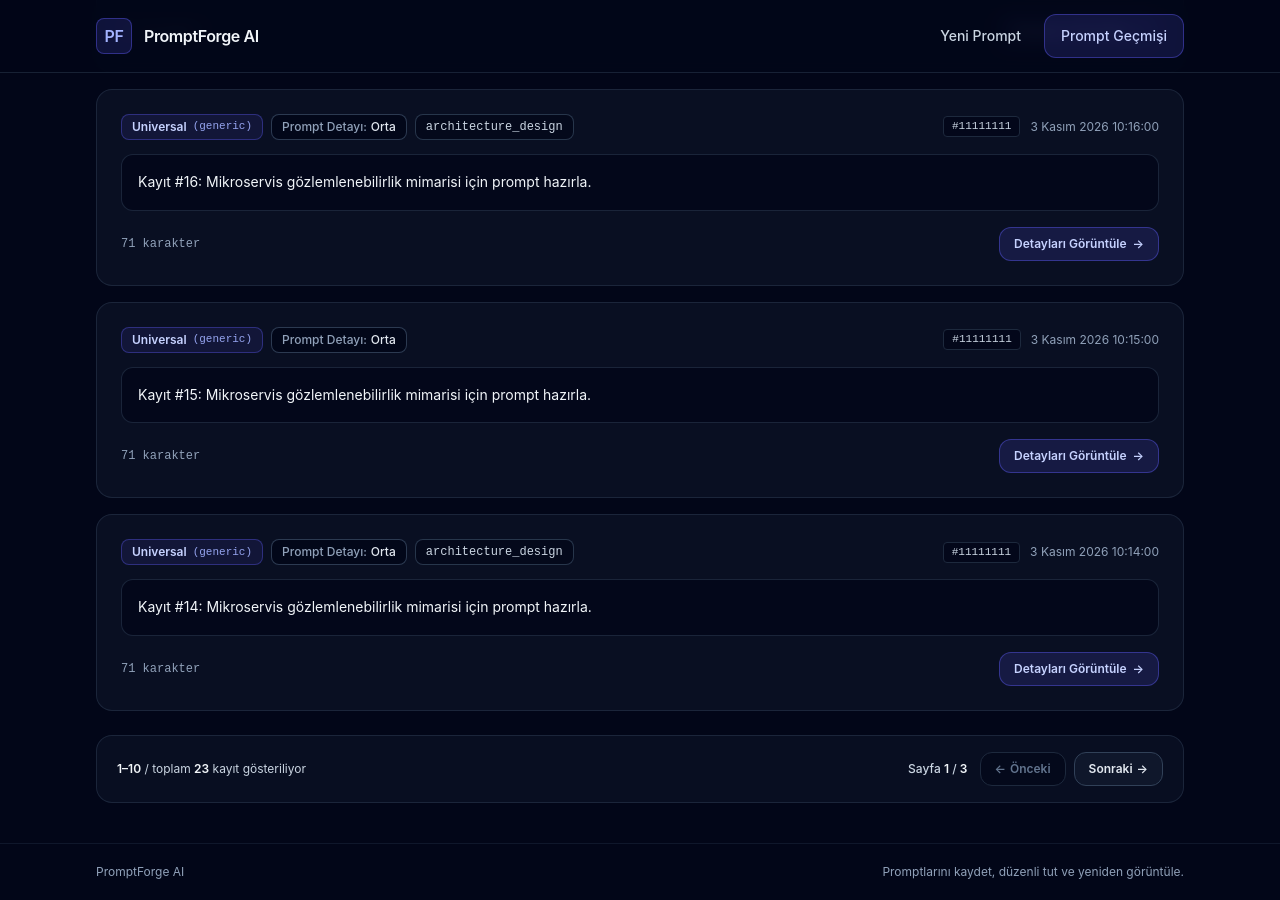
Prompt history, server-side pagination, and navigation (Milestone 4B-1) › paginates multi-page datasets, respects Previous/Next boundaries, handles partial last page, and avoids stale page data
This screenshot has width=1280, height=900.
Later steps or results of the test are not shown.
(page scrolled)
Expected: the text "Kayıt #14:" is shown, top-left (138, 598), bottom-right (592, 615)
Expected: the navigation bar named "Prompt geçmişi sayfalama" shows "1–10 / toplam 23 kayıt gösteriliyor", top-left (96, 735), bottom-right (1184, 803)
Click the button "Sonraki →".
click(1118, 769)  # box top-left (1074, 752), bottom-right (1163, 786)
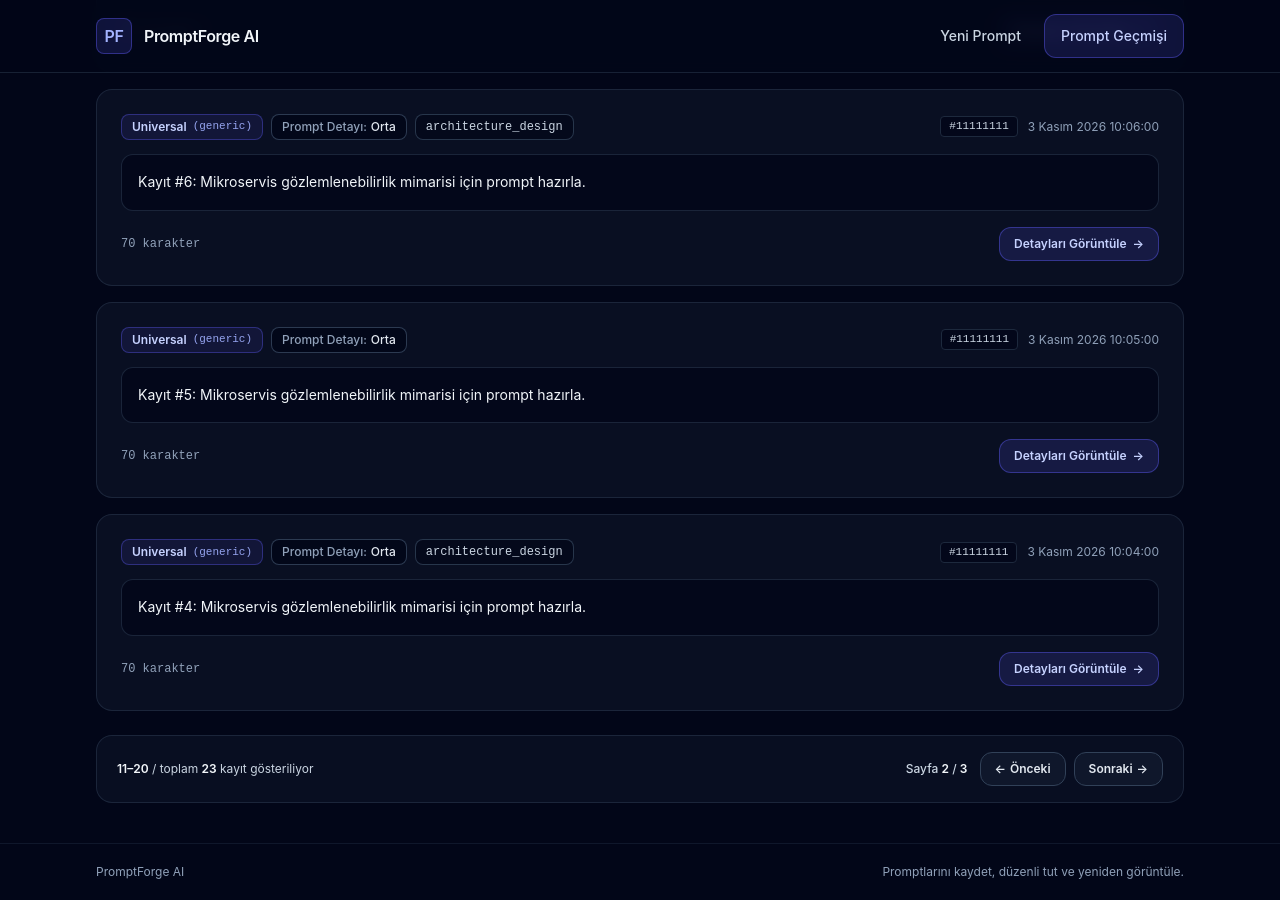
Expected: the text "Kayıt #4:" is shown, top-left (138, 598), bottom-right (586, 615)
Expected: the navigation bar named "Prompt geçmişi sayfalama" shows "11–20 / toplam 23 kayıt gösteriliyor", top-left (96, 735), bottom-right (1184, 803)
Expected: the navigation bar named "Prompt geçmişi sayfalama" shows "Sayfa 2 / 3", top-left (96, 735), bottom-right (1184, 803)
# Advance to final partial page 3 of 3: records #3, #2, #1
Click the button "Sonraki →".
click(1118, 769)  # box top-left (1074, 752), bottom-right (1163, 786)
(page scrolled)
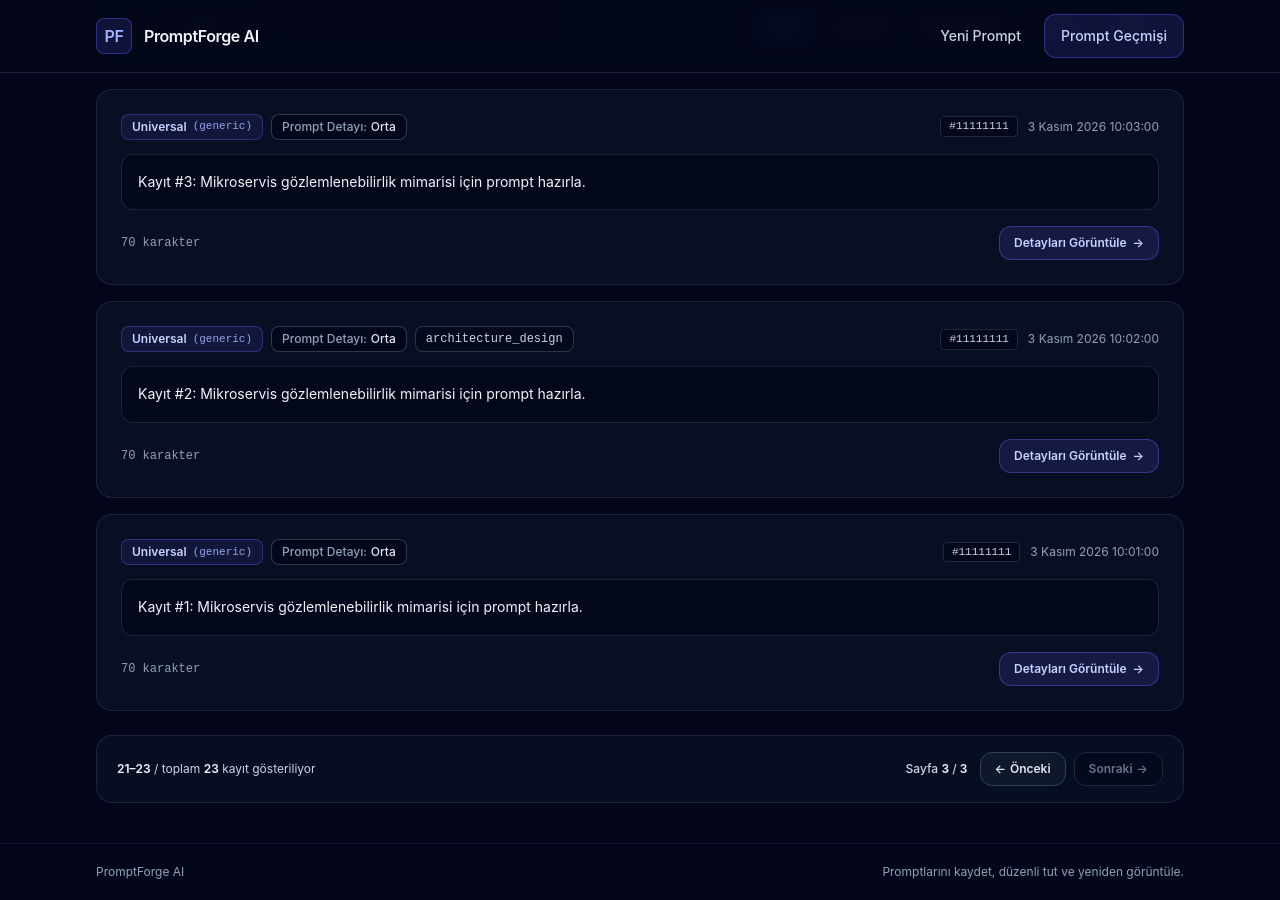
Expected: the text "Kayıt #3:" is shown, top-left (138, 172), bottom-right (586, 190)
Expected: the text "Kayıt #1:" is shown, top-left (138, 598), bottom-right (583, 615)
Expected: the navigation bar named "Prompt geçmişi sayfalama" shows "21–23 / toplam 23 kayıt gösteriliyor", top-left (96, 735), bottom-right (1184, 803)
